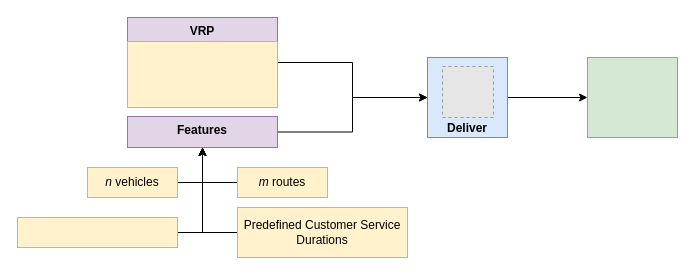
This 695x275 diagram has some shape labels left out. Grey dashed boxes stand in for pictures. The centre of each missing label's shape, as x and y in pixels:
Multiple Depots (MDVRP): the point at 202,74
Solution: the point at 632,97
Vehicle Capacity Constraint: the point at 97,232
